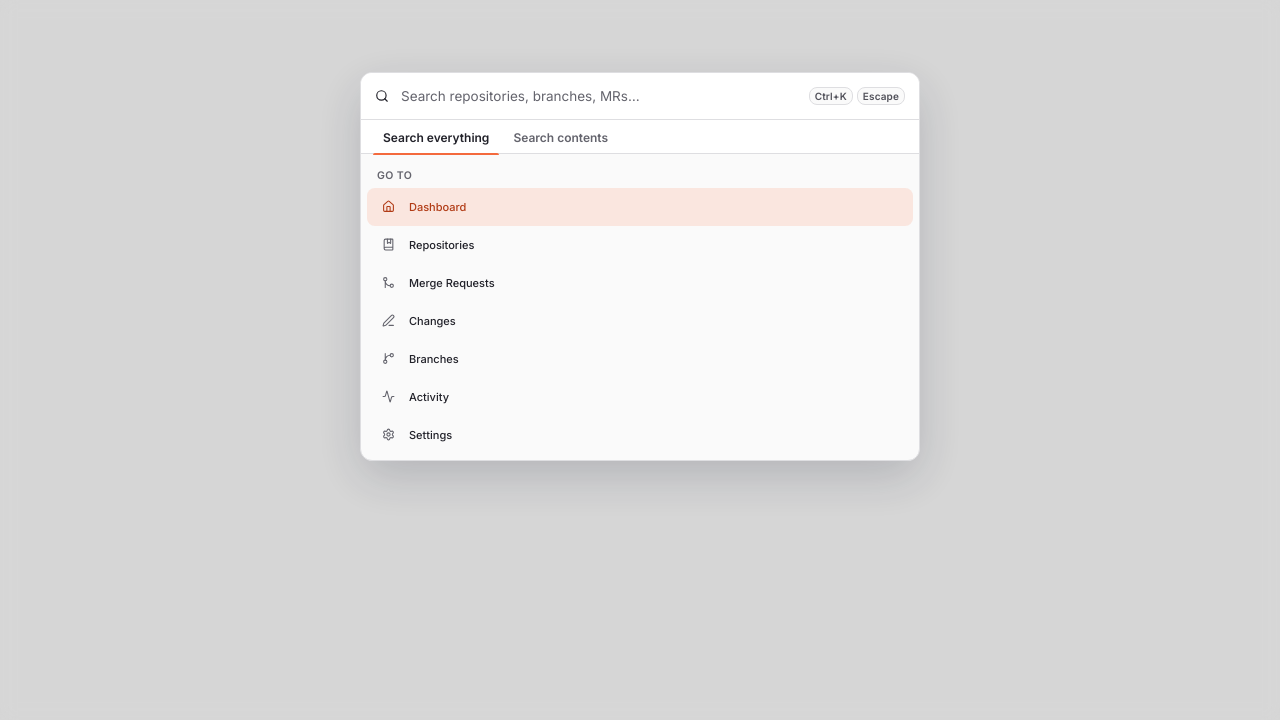
OverallSearch › shows the content-scope filter and the min-length hint on the content tab
This screenshot has width=1280, height=720.
What coordinates should you click on to do the following:
click the tab "Search contents"
I would click on:
 (561, 137)
Its box is [503,120,618,154].
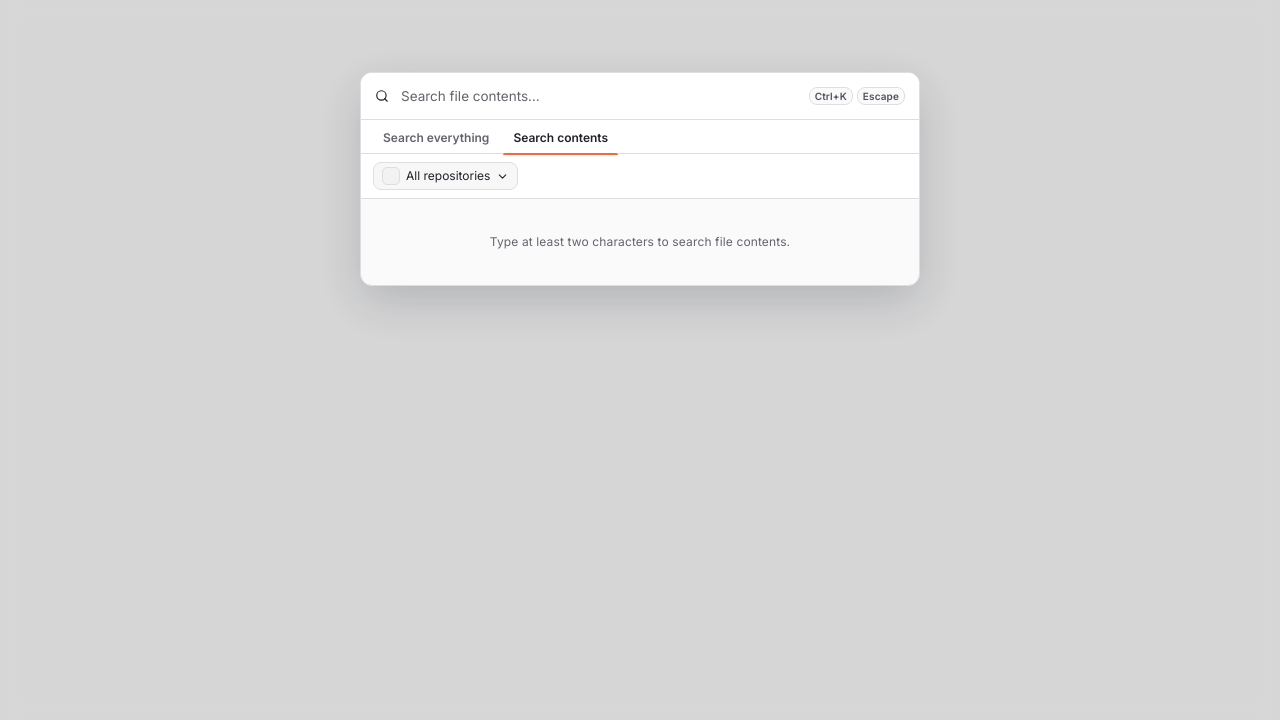
Expected: the button with test id "search-scope-select" is shown, [373,162,518,190]
Expected: the list item with test id "search-content-hint" is shown, [490,234,790,249]
